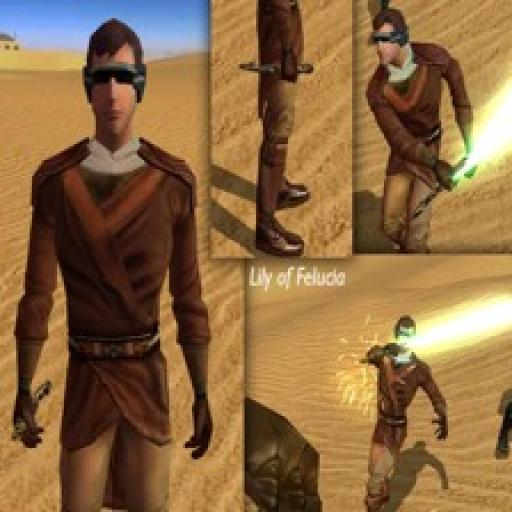lightsaber: (414, 76, 510, 209), (357, 294, 510, 366), (239, 57, 320, 80)
